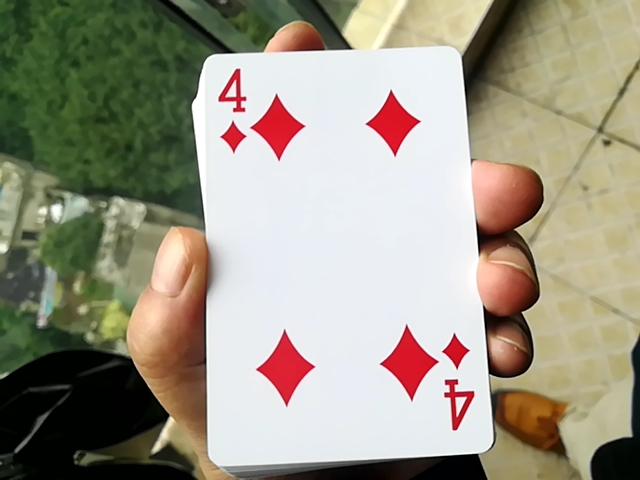fk 4: (179, 22, 487, 468)
